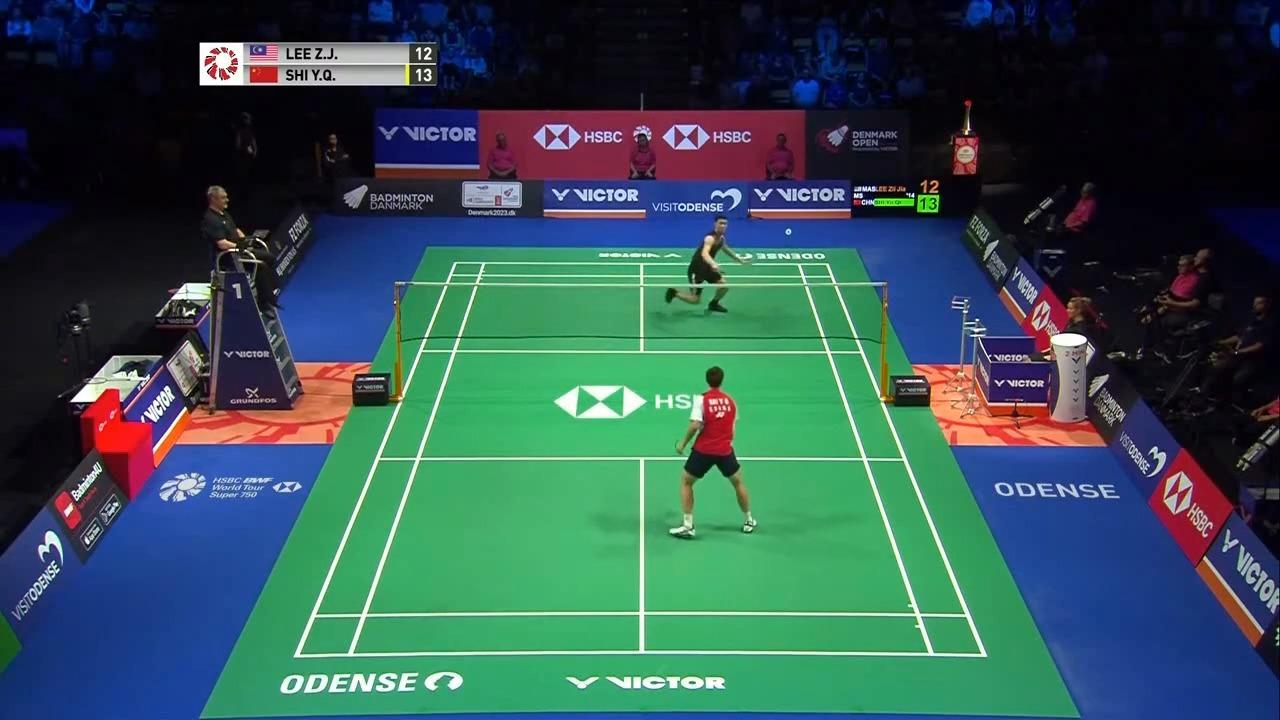shuttle: (783, 226, 794, 238)
